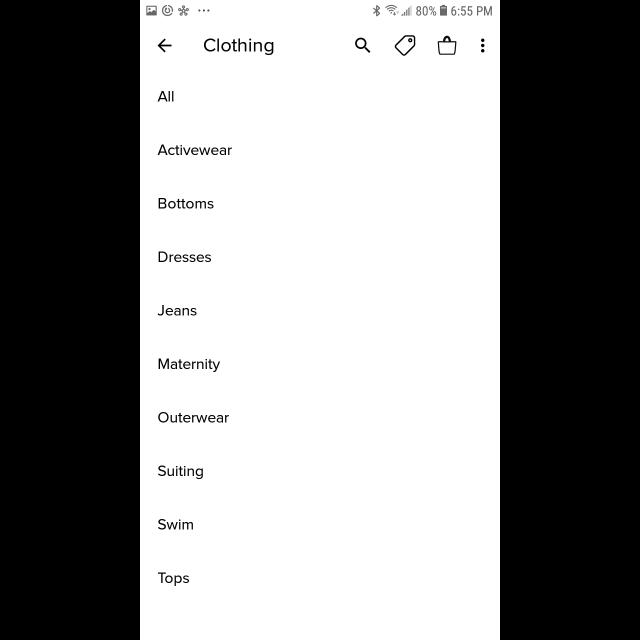icon: (394, 36, 416, 56), (438, 36, 457, 56), (355, 38, 371, 54), (158, 39, 172, 53), (481, 38, 485, 54)
text: (204, 38, 274, 56), (158, 144, 232, 156), (159, 359, 221, 373), (158, 412, 230, 423), (158, 198, 214, 210), (158, 465, 204, 479), (160, 252, 212, 262), (158, 304, 198, 316), (158, 573, 190, 587), (158, 518, 194, 530), (158, 90, 174, 102)
uppertaskbar: (140, 1, 500, 17)
